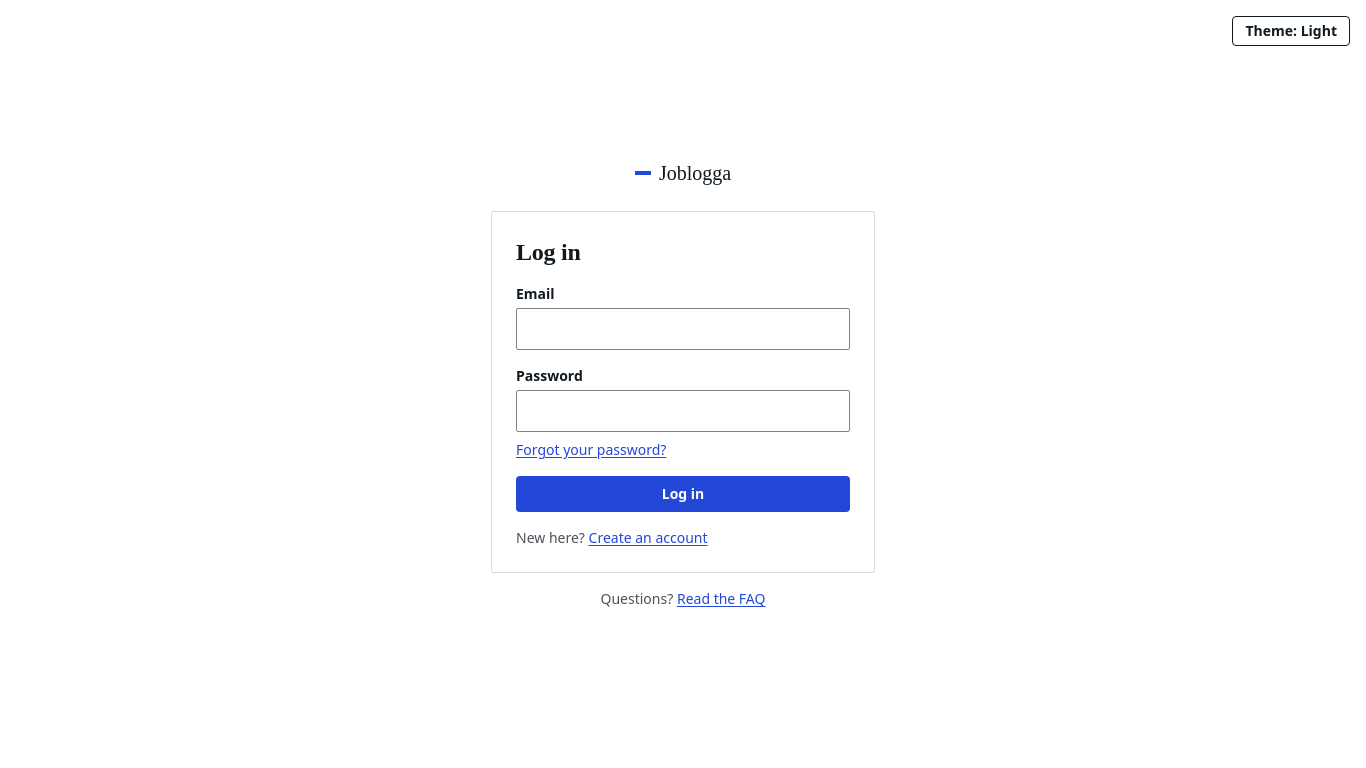
Test: login › logs in, stores the token, and lands on the applications page
Type "me@example.com" into the field labelled "Email" at (683, 329), box [516,308,850,350]
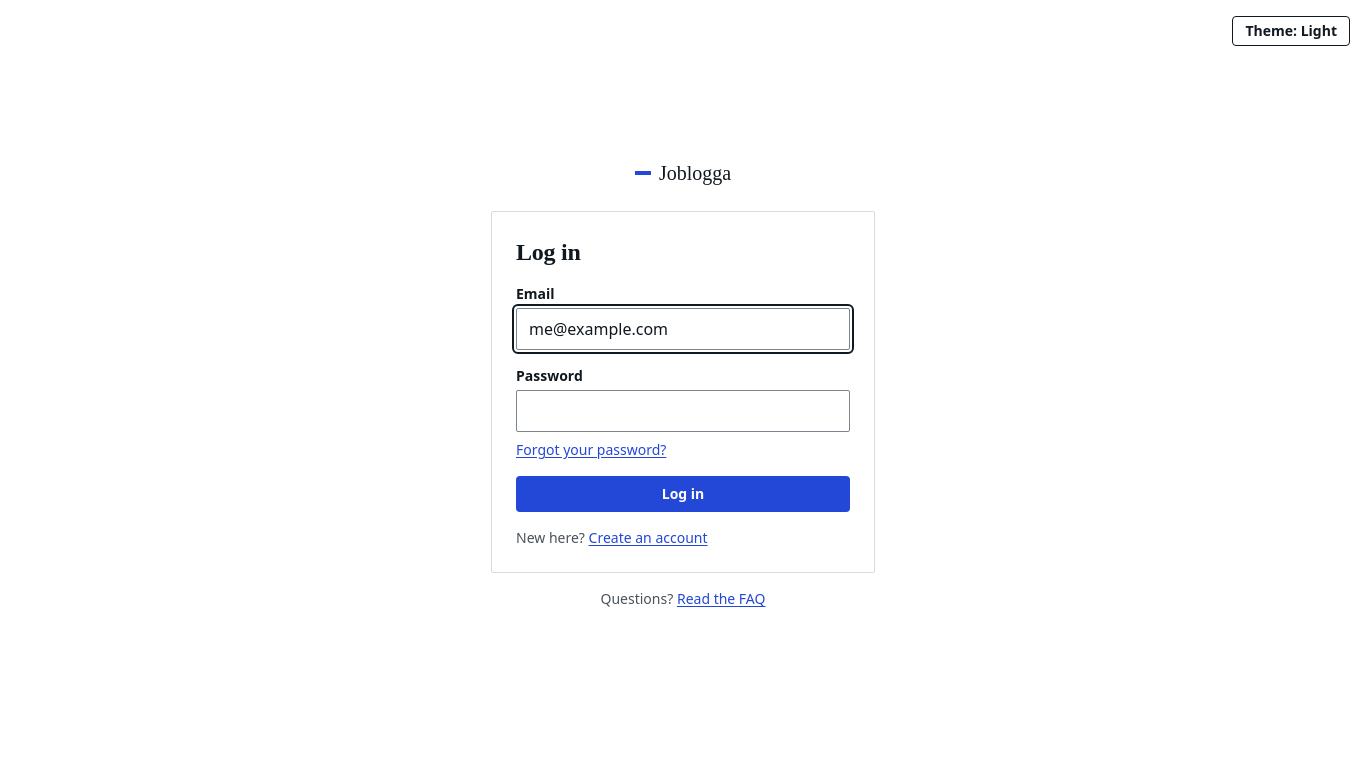
Type "correct-horse-battery" into the password field labelled "Password" at (683, 411), box [516,390,850,432]
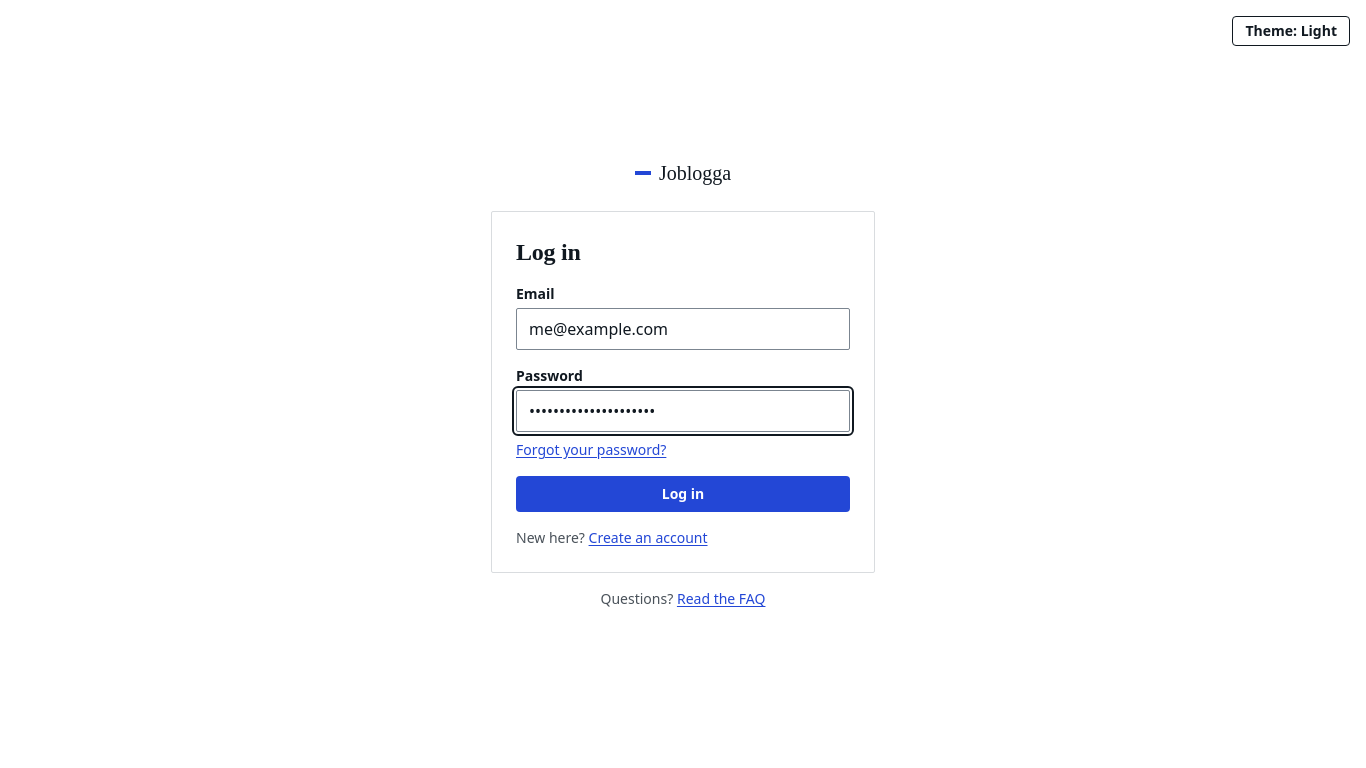
Click the button "Log in" at (683, 494), box [516,476,850,512]
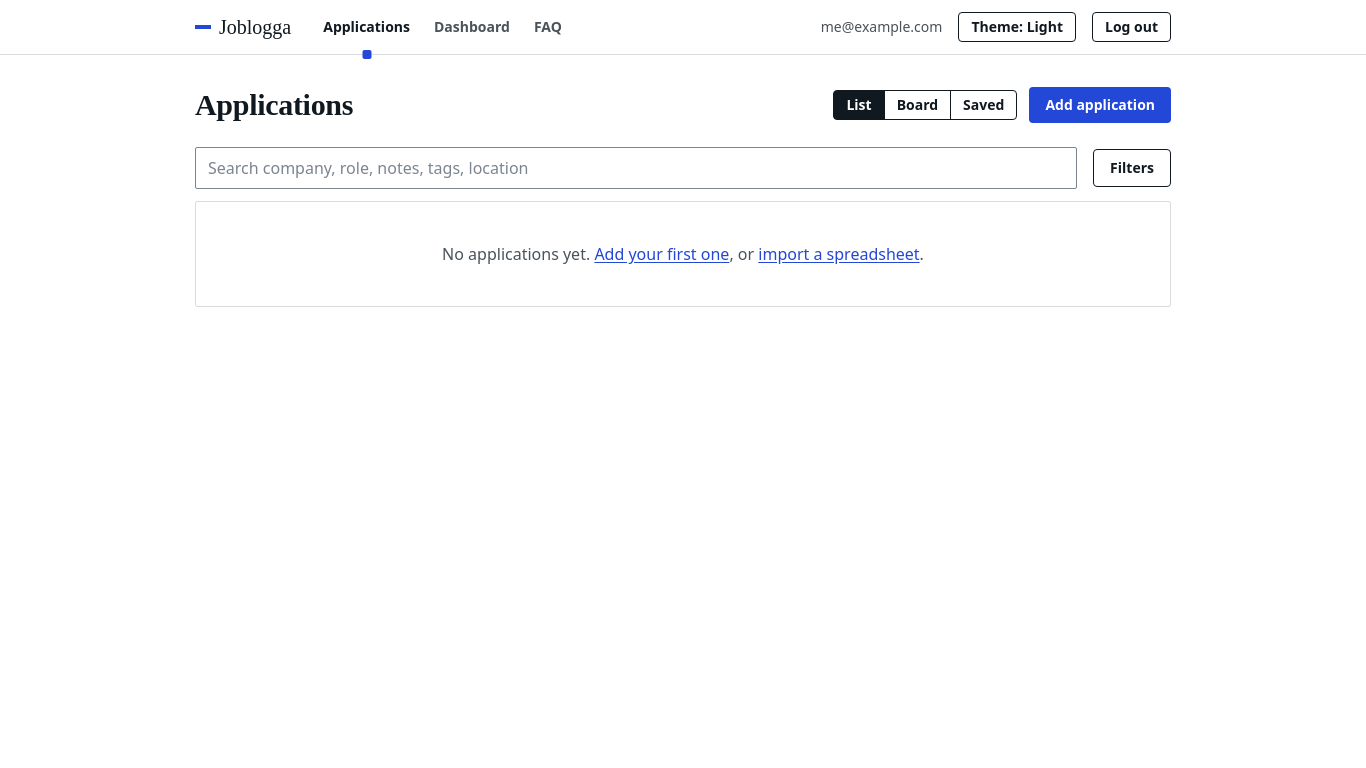
Now the heading "Applications" is shown, box [195,87,353,123]
